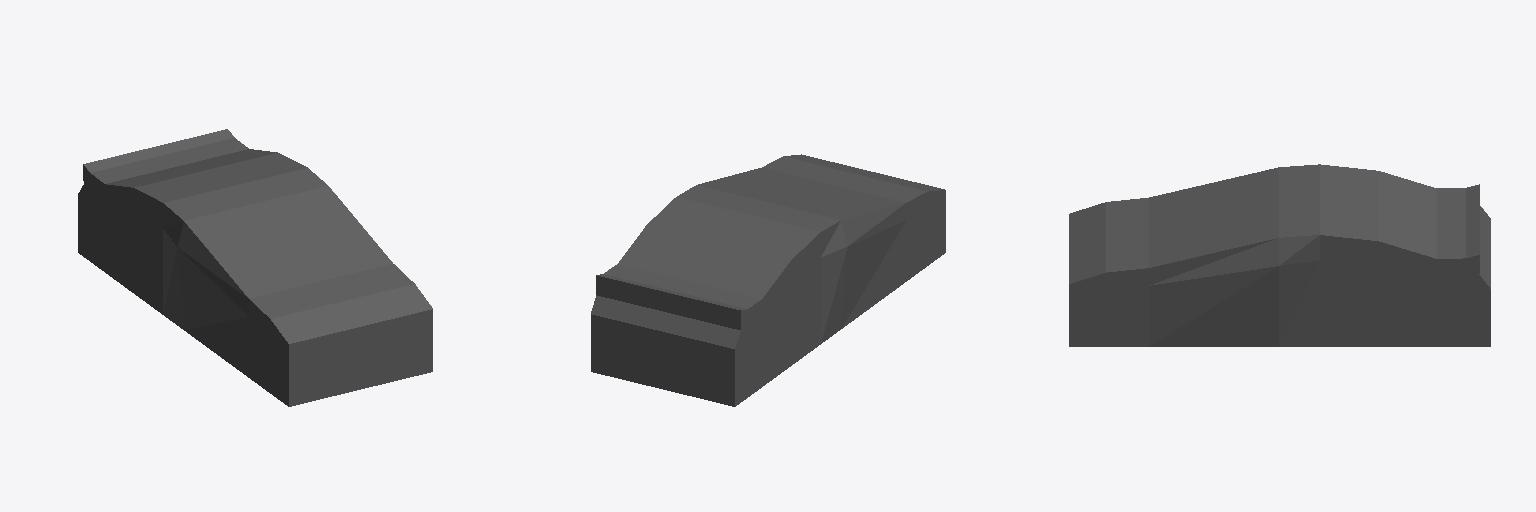
File: mustang_hull.obj
The picture shows the model from 3 angles: view 1: azimuth 30°, elevation 25°; view 2: azimuth 150°, elevation 25°; view 3: azimuth 270°, elevation 25°; orthographic projection.
Parts seen in each view (by area): view 1: Cube_Cube.002; view 2: Cube_Cube.002; view 3: Cube_Cube.002.
Part boxes in pixels (left/top/right/bottom): Cube_Cube.002: left=78, top=129, right=432, bottom=406; Cube_Cube.002: left=591, top=154, right=945, bottom=406; Cube_Cube.002: left=1069, top=164, right=1490, bottom=346.
Size of the model in its own units: 7.16 by 4.84 by 16.51.